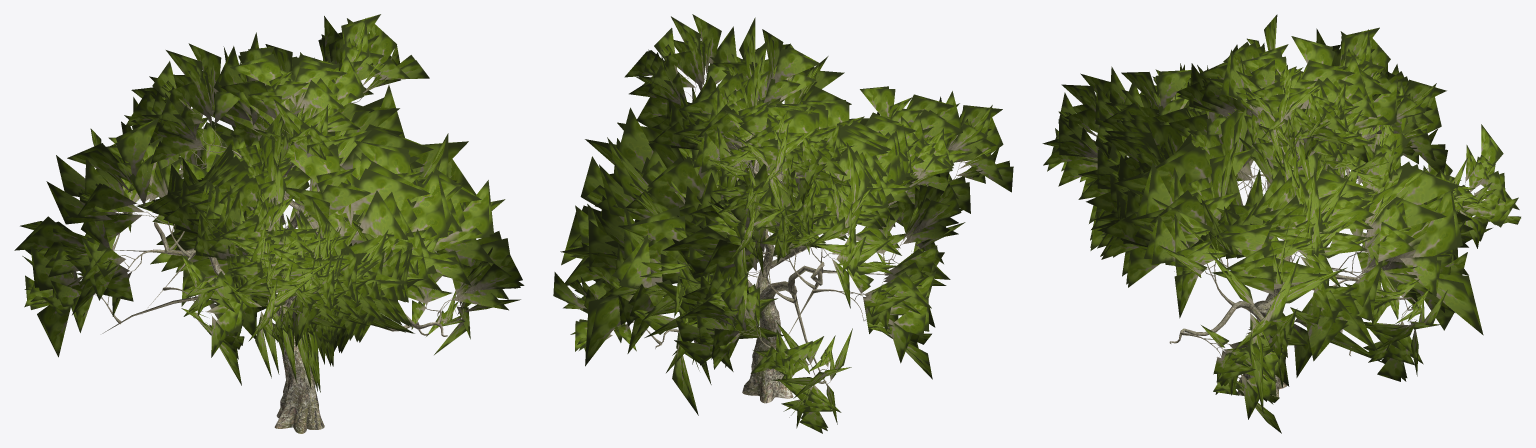
Rendered from oak10.obj.
The picture shows the model from 3 angles, left to right: view 1: azimuth 30°, elevation 25°; view 2: azimuth 150°, elevation 25°; view 3: azimuth 270°, elevation 25°; orthographic projection. The views are drawn at different scales.
Parts seen in each view (by area): view 1: oak leaf, mossybark03; view 2: oak leaf, mossybark03; view 3: oak leaf, mossybark03.
Part boxes in pixels (bbox=[...]): oak leaf: bbox=[14, 14, 524, 392]; mossybark03: bbox=[72, 78, 476, 433]; oak leaf: bbox=[553, 14, 1013, 433]; mossybark03: bbox=[614, 75, 971, 403]; oak leaf: bbox=[1042, 14, 1520, 433]; mossybark03: bbox=[1095, 107, 1476, 397].
Bounding box in the file's own units: 932 × 765 × 915.
2 materials, 2 textured.
